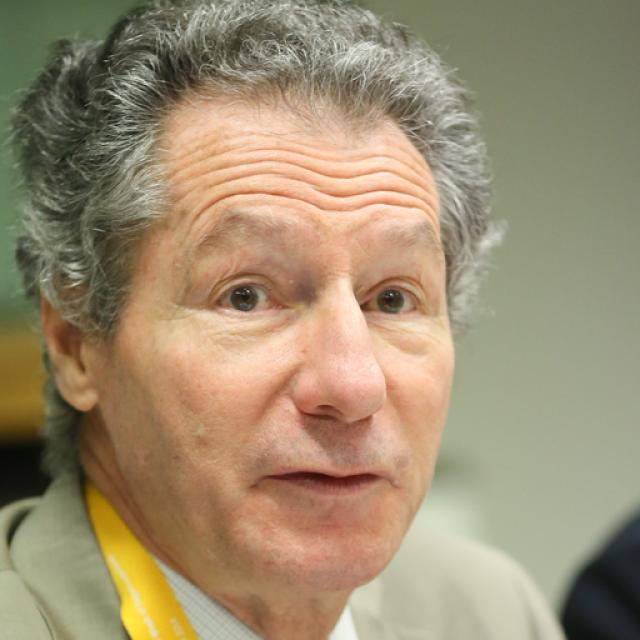Acne: (191, 419, 214, 449)
Wrinkle: (191, 182, 441, 231), (200, 164, 441, 207), (186, 155, 429, 190), (363, 147, 431, 175), (245, 144, 318, 158)
